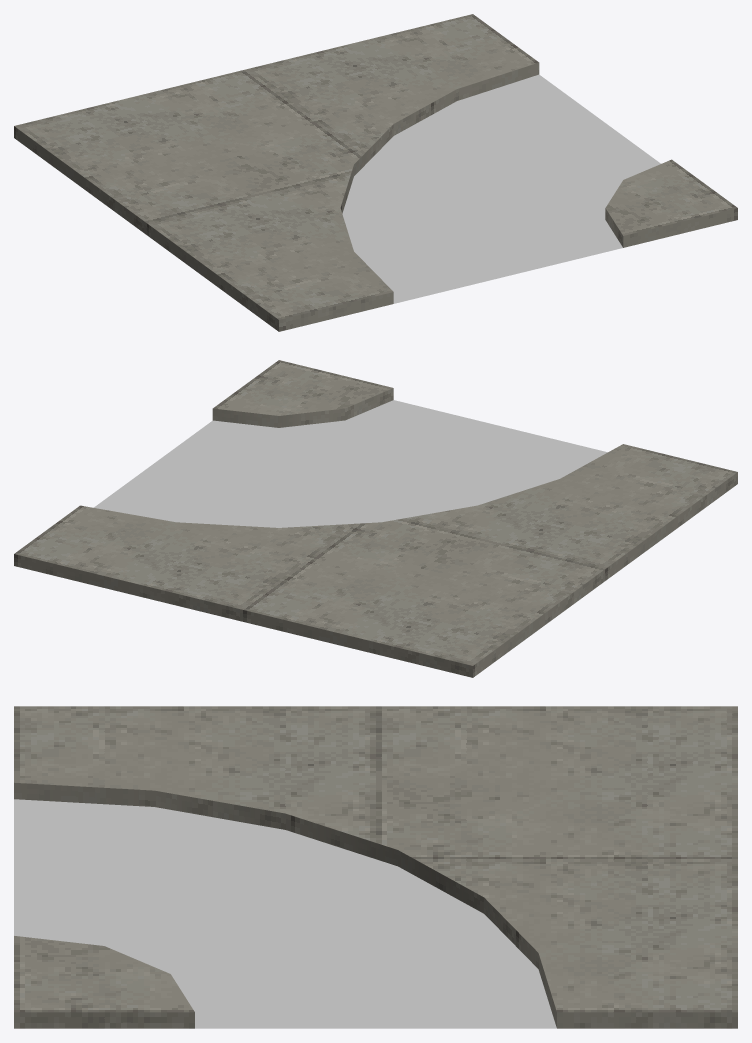
The model's file is road-asphalt-corner.obj.
3 renders of one model, top to bottom at view 1: azimuth 30°, elevation 25°; view 2: azimuth 150°, elevation 25°; view 3: azimuth 270°, elevation 25°, orthographic. The views are drawn at different scales.
Parts seen in each view (by area): view 1: road-asphalt-corner; view 2: road-asphalt-corner; view 3: road-asphalt-corner.
Part boxes in pixels (left/top/right/bottom): road-asphalt-corner: left=14, top=14, right=737, bottom=331; road-asphalt-corner: left=14, top=360, right=737, bottom=677; road-asphalt-corner: left=14, top=706, right=737, bottom=1028.
Size of the model in its own units: 2 by 0.05 by 2.
